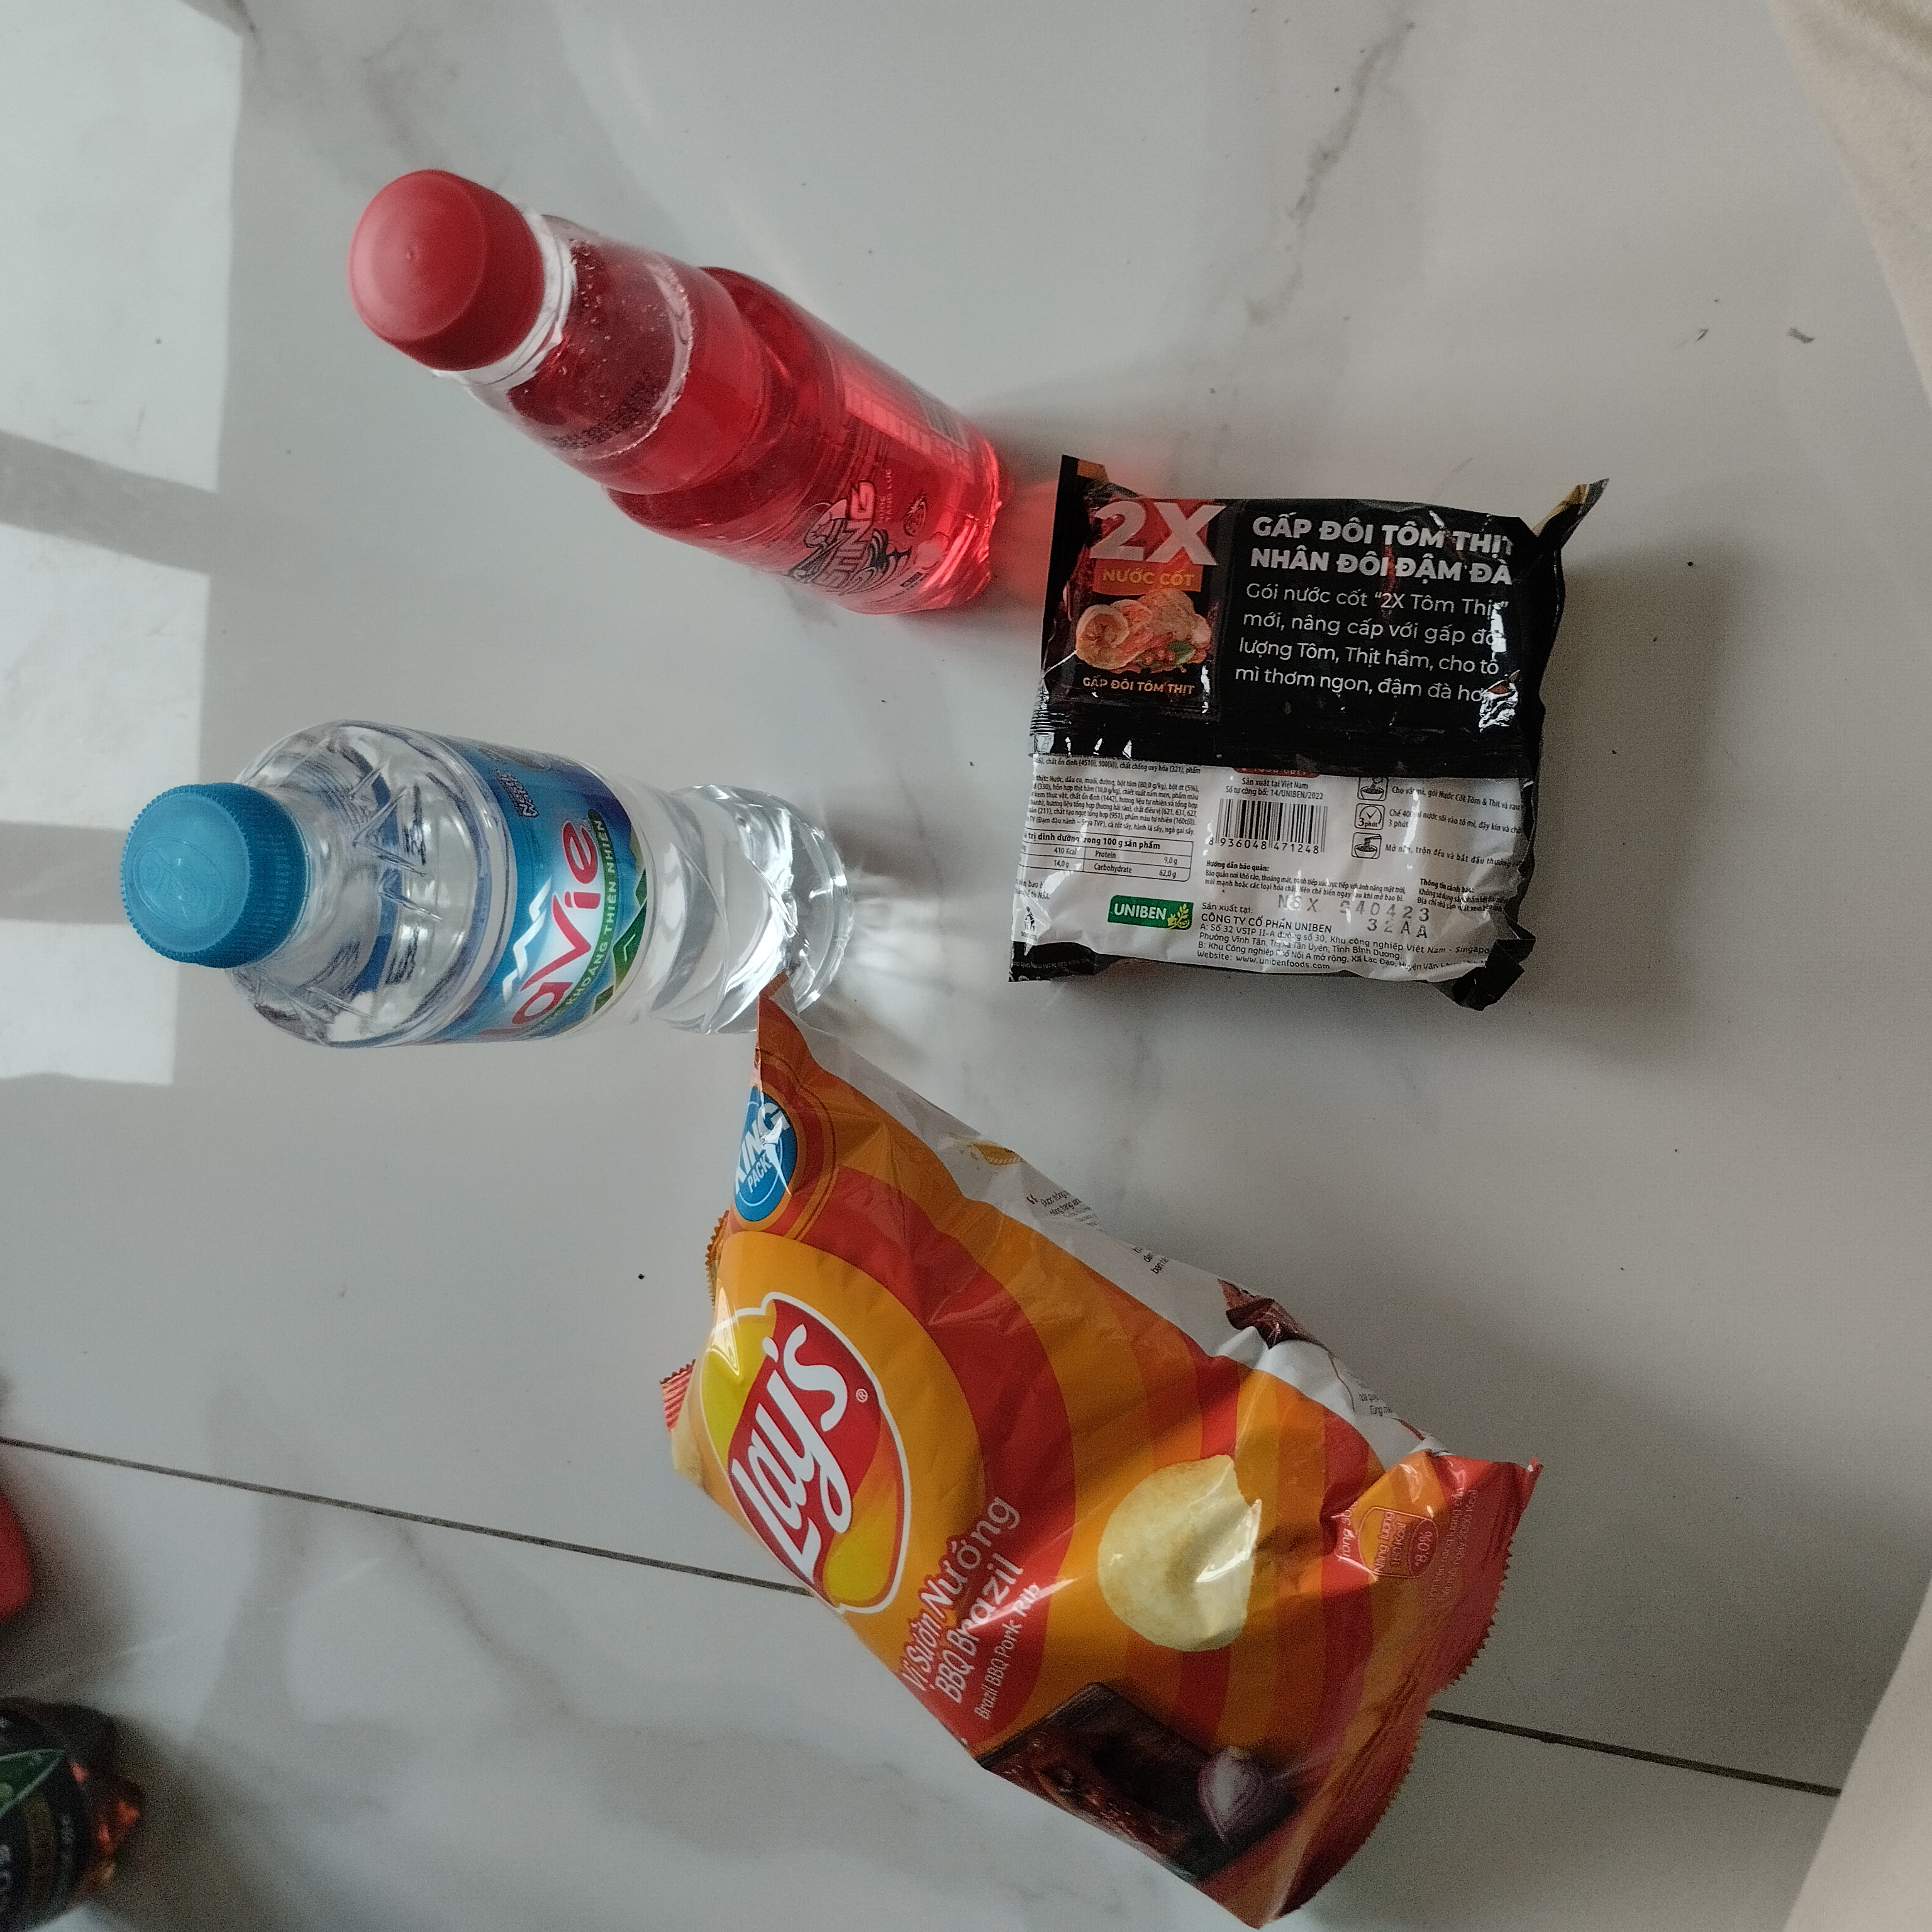3mien: (1005, 465, 1550, 1023)
Lavie: (119, 715, 862, 1058)
Lays: (639, 975, 1559, 1914)
Sting: (349, 150, 1014, 663)
